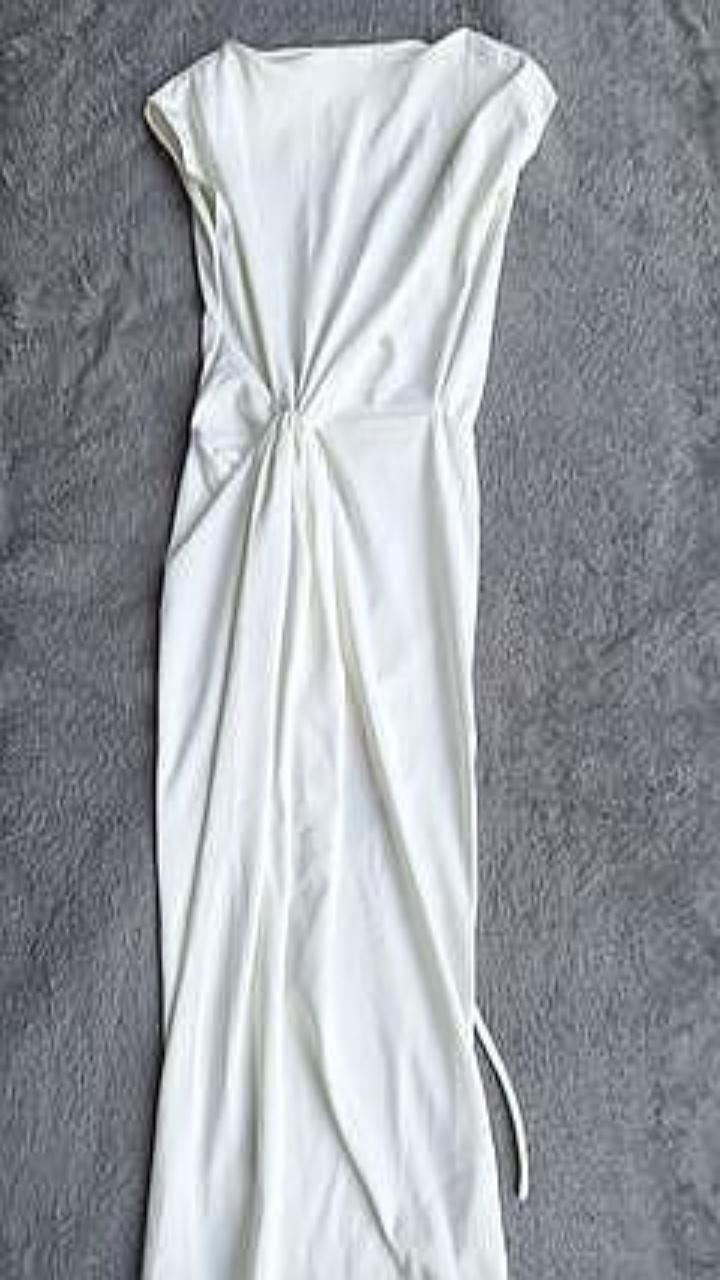Dresses: (142, 27, 555, 1279)
